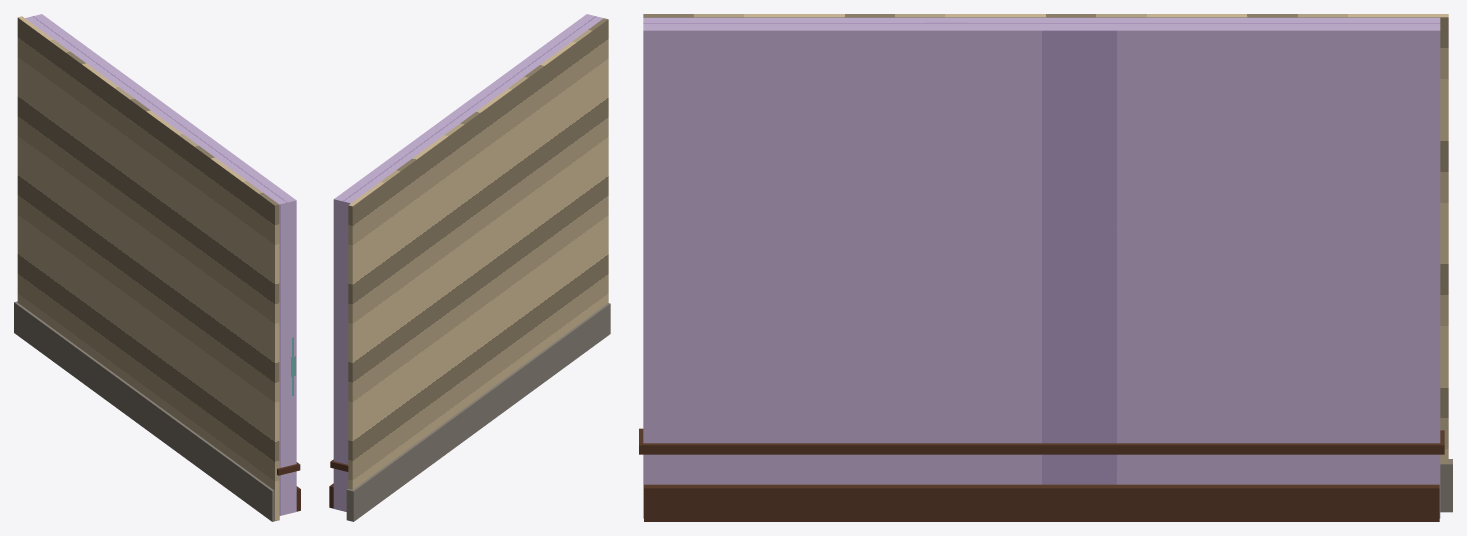
Rendered from wing_west.glb.
3 renders of one model, left to right at view 1: azimuth 30°, elevation 25°; view 2: azimuth 150°, elevation 25°; view 3: azimuth 270°, elevation 25°, orthographic. The views are drawn at different scales.
Visible parts, largest first — view 1: Box3, Box1, Box4; view 2: Box3, Box1, Box4; view 3: Box1, Box2, Box5, Box6, Box3.
Part boxes in pixels (<box>): Box3: <box>17,16,279,520</box>; Box1: <box>25,14,296,515</box>; Box4: <box>14,301,279,521</box>; Box3: <box>348,18,608,489</box>; Box1: <box>333,14,603,511</box>; Box4: <box>346,303,610,521</box>; Box1: <box>643,17,1440,518</box>; Box2: <box>644,484,1439,521</box>; Box5: <box>643,454,1440,516</box>; Box6: <box>639,428,1444,454</box>; Box3: <box>643,14,1448,463</box>.
Bounding box in the file's own units: 0.25 × 2.64 × 3.93.
Materials: 4 (2 with a texture image).
